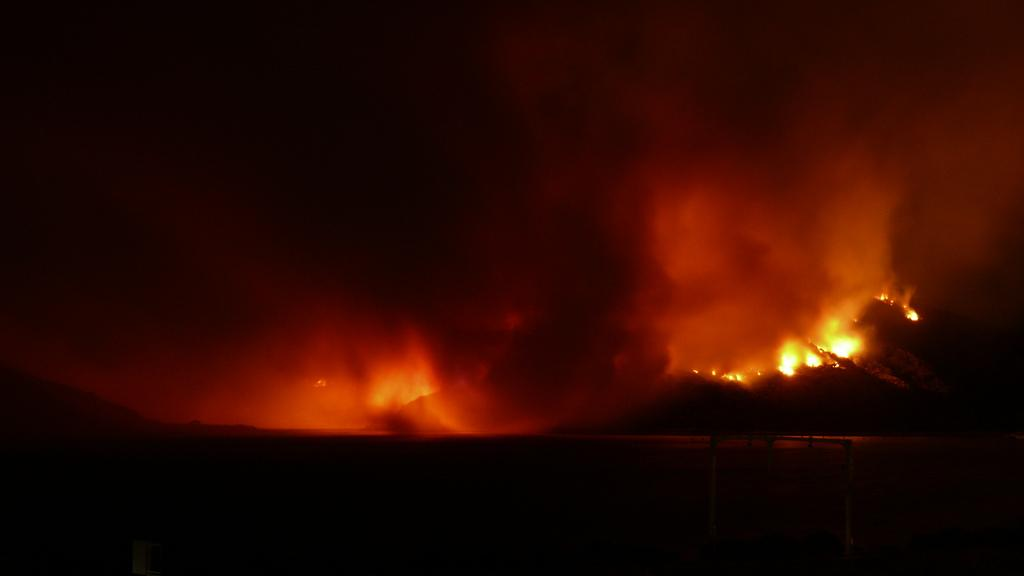fire: (824, 330, 877, 364), (780, 341, 814, 380)
